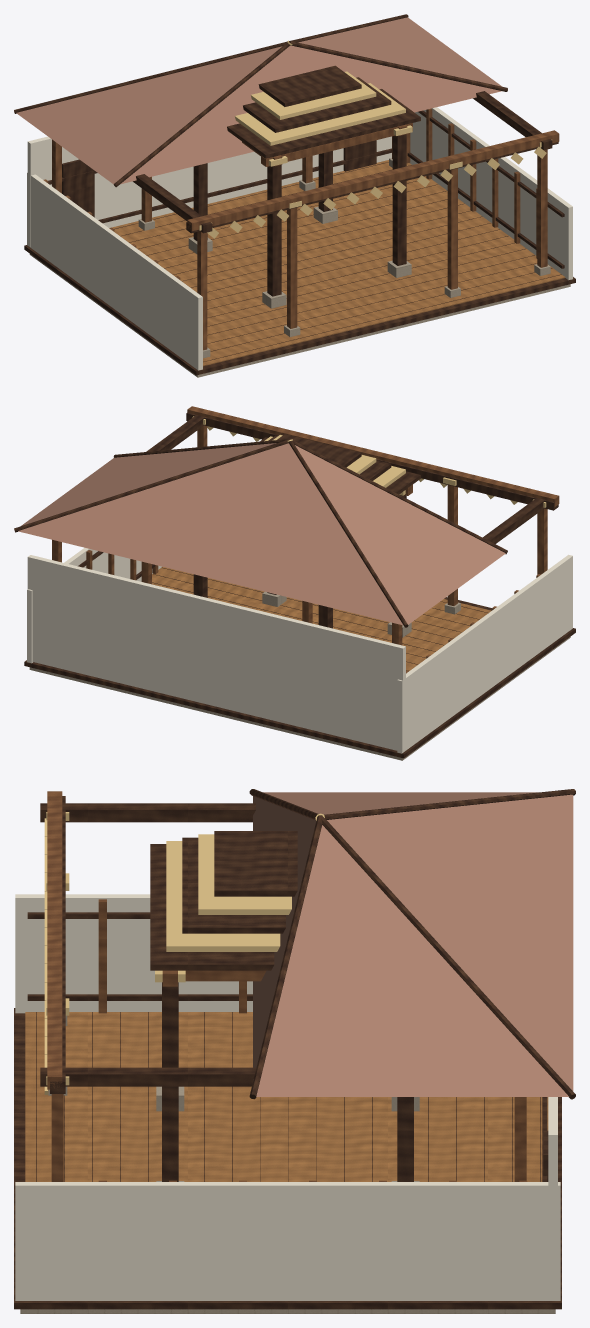
File: joglo_interior_shell.glb
3 views of the same model, one above another, from view 1: azimuth 30°, elevation 25°; view 2: azimuth 150°, elevation 25°; view 3: azimuth 270°, elevation 25° (orthographic). The views are drawn at different scales.
Visible parts, largest first — view 1: FLOOR_FINISH, LEFT_WALL, JOGLO_ROOF_VISIBLE_PANEL_3, JOGLO_ROOF_VISIBLE_PANEL_2, BACK_WALL, RIGHT_WALL, JOGLO_ROOF_VISIBLE_PANEL_1, FRONT_EAVE_BEAM, FLOOR_TEAK_TRIM, TUMPANG_SARI_LAYER_0, TUMPANG_SARI_LAYER_4, TUMPANG_SARI_LAYER_1 (+26 smaller); view 2: BACK_WALL, JOGLO_ROOF_VISIBLE_PANEL_0, LEFT_WALL, JOGLO_ROOF_VISIBLE_PANEL_3, FLOOR_FINISH, JOGLO_ROOF_VISIBLE_PANEL_1, FLOOR_TEAK_TRIM, FRONT_EAVE_BEAM, PERIMETER_TIE_BEAM_Z_4.6, FLOOR_WALKABLE, RIGHT_WALL, ROOF_RAFTER_1 (+8 smaller); view 3: RIGHT_WALL, FLOOR_FINISH, JOGLO_ROOF_VISIBLE_PANEL_1, JOGLO_ROOF_VISIBLE_PANEL_0, LEFT_WALL, FLOOR_TEAK_TRIM, TUMPANG_SARI_LAYER_4, FRONT_EAVE_BEAM, TUMPANG_SARI_LAYER_0, JOGLO_ROOF_VISIBLE_PANEL_2, PERIMETER_TIE_BEAM_X_6.25, PERIMETER_TIE_BEAM_X_-6.25 (+18 smaller).
Boxes of the visible parts, x1,y1,x2,y2 form: FLOOR_FINISH: (109,160,565,366); LEFT_WALL: (27,172,202,370); JOGLO_ROOF_VISIBLE_PANEL_3: (16,46,282,184); JOGLO_ROOF_VISIBLE_PANEL_2: (120,45,501,184); BACK_WALL: (27,136,391,247); RIGHT_WALL: (410,107,572,280); JOGLO_ROOF_VISIBLE_PANEL_1: (298,17,501,86); FRONT_EAVE_BEAM: (187,130,559,231); FLOOR_TEAK_TRIM: (24,245,575,375); TUMPANG_SARI_LAYER_0: (227,89,420,158); TUMPANG_SARI_LAYER_4: (258,65,361,106); TUMPANG_SARI_LAYER_1: (235,83,405,145); BACK_WALL: (27,555,405,751); JOGLO_ROOF_VISIBLE_PANEL_0: (18,443,402,625); LEFT_WALL: (397,554,572,753); JOGLO_ROOF_VISIBLE_PANEL_3: (295,445,505,624); FLOOR_FINISH: (152,566,491,670); JOGLO_ROOF_VISIBLE_PANEL_1: (21,443,276,525); FLOOR_TEAK_TRIM: (24,597,575,758); FRONT_EAVE_BEAM: (187,406,559,506); PERIMETER_TIE_BEAM_Z_4.6: (186,412,558,510); FLOOR_WALKABLE: (29,637,570,760); RIGHT_WALL: (27,547,161,663); ROOF_RAFTER_1: (14,439,289,532); RIGHT_WALL: (15,1182,560,1300); FLOOR_FINISH: (25,1012,548,1181); JOGLO_ROOF_VISIBLE_PANEL_1: (256,825,568,1096); JOGLO_ROOF_VISIBLE_PANEL_0: (327,794,573,1091); LEFT_WALL: (15,894,252,1013); FLOOR_TEAK_TRIM: (14,1008,561,1309); TUMPANG_SARI_LAYER_4: (214,831,297,896); FRONT_EAVE_BEAM: (47,791,62,1089); TUMPANG_SARI_LAYER_0: (150,844,274,970); JOGLO_ROOF_VISIBLE_PANEL_2: (253,796,316,1081); PERIMETER_TIE_BEAM_X_6.25: (40,1067,255,1086); PERIMETER_TIE_BEAM_X_-6.25: (40,803,255,822).
Bounding box in the file's own units: 14.48 × 7.81 × 11.23.
Materials: 7 (4 with a texture image).
